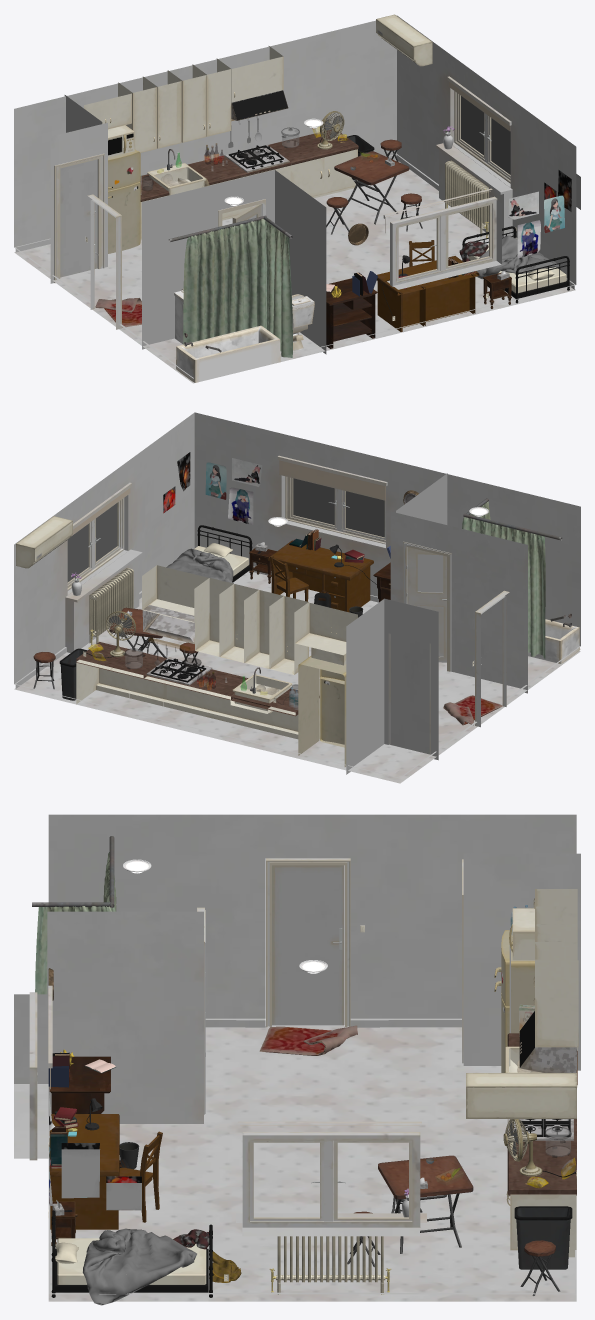
3 renders of one model, top to bottom at view 1: azimuth 30°, elevation 25°; view 2: azimuth 150°, elevation 25°; view 3: azimuth 270°, elevation 25°, orthographic. The views are drawn at different scales.
Visible parts, largest first — view 1: Base, bathroom_wall, cabinets, curtain, closet_door, Desk, bathtub, wallCloset, plank, Refrigirator, Drawer, table (+25 smaller); view 2: Base, cabinets, bathroom_wall, wallCloset, closet_door, Refrigirator, Desk, plank, curtain, polySurface16, window_edge, Radiator (+24 smaller); view 3: Base, bathroom_wall, wallCloset, DOOR, cabinets, comforter, AC, polySurface23, Desk, plank, Radiator, table (+25 smaller).
Boxes of the visible parts, x1,y1,x2,y2 form: Base: (14, 15, 576, 383); bathroom_wall: (142, 170, 326, 354); cabinets: (84, 46, 357, 240); curtain: (183, 219, 292, 357); closet_door: (54, 153, 104, 283); Desk: (377, 256, 479, 331); bathtub: (176, 325, 280, 382); wallCloset: (50, 95, 107, 283); plank: (140, 130, 358, 201); Refrigirator: (108, 149, 140, 253); Drawer: (326, 278, 377, 348); table: (334, 151, 409, 224); Base: (14, 412, 580, 783); cabinets: (76, 565, 357, 739); bathroom_wall: (390, 473, 527, 693); wallCloset: (346, 598, 438, 774); closet_door: (388, 633, 430, 754); Refrigirator: (298, 656, 346, 766); Desk: (268, 540, 373, 612); plank: (76, 642, 319, 716); curtain: (462, 501, 545, 658); polySurface16: (293, 478, 384, 537); window_edge: (65, 549, 142, 652); Radiator: (89, 568, 133, 645); Base: (14, 814, 576, 1301); bathroom_wall: (47, 911, 203, 1123); wallCloset: (463, 853, 580, 1070); DOOR: (272, 865, 344, 1025); cabinets: (510, 889, 578, 1257); comforter: (82, 1228, 196, 1305); AC: (466, 1073, 576, 1118); polySurface23: (242, 1132, 420, 1227); Desk: (49, 1114, 119, 1229); plank: (507, 1033, 577, 1195); Radiator: (269, 1236, 391, 1294); table: (378, 1155, 473, 1253).
Bounding box in the file's own units: 8.48 × 2.95 × 6.95.
Materials: 6 (6 with a texture image).
